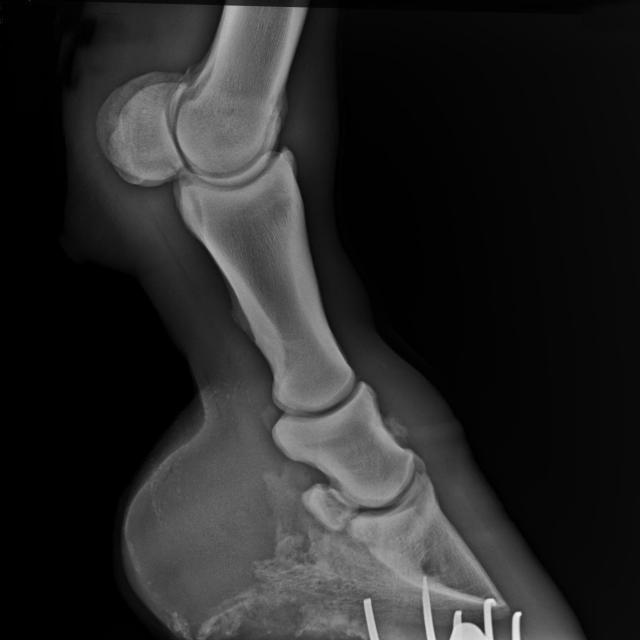joint-ht8A: (86, 38, 350, 243)
